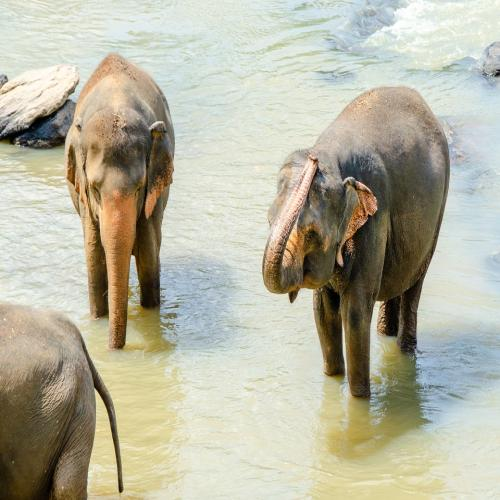asian_elephant-endangered: (260, 85, 448, 398), (65, 51, 175, 347), (0, 298, 127, 499)
